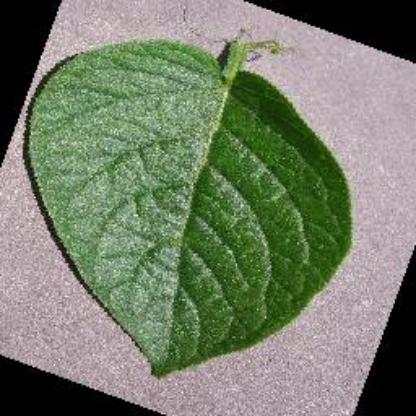Healthy-plant: (11, 16, 398, 401)
